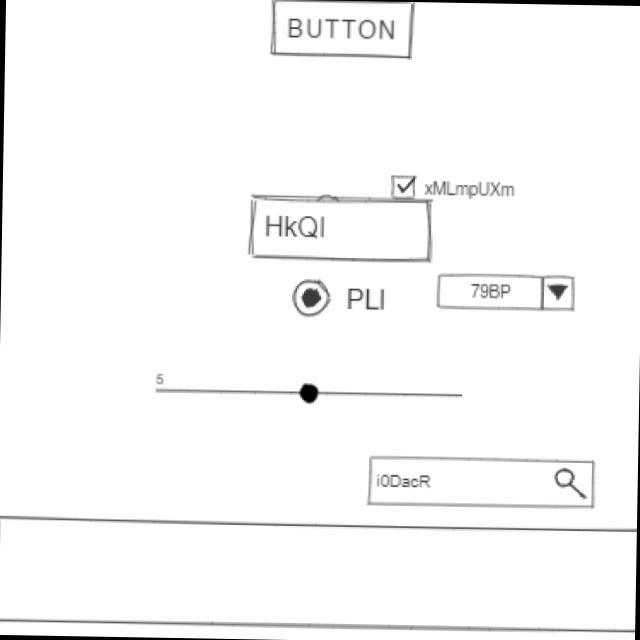button: (264, 0, 415, 63)
checkbox: (390, 170, 516, 204)
container: (0, 510, 636, 635)
input: (246, 190, 437, 269)
radio: (288, 276, 391, 319)
search: (364, 451, 598, 512)
select: (434, 270, 580, 314)
slider: (170, 377, 466, 407)
